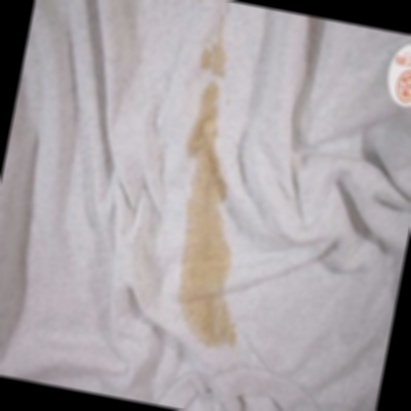coffee: (180, 223, 229, 282), (183, 283, 230, 342), (188, 83, 222, 162), (187, 170, 226, 224)
